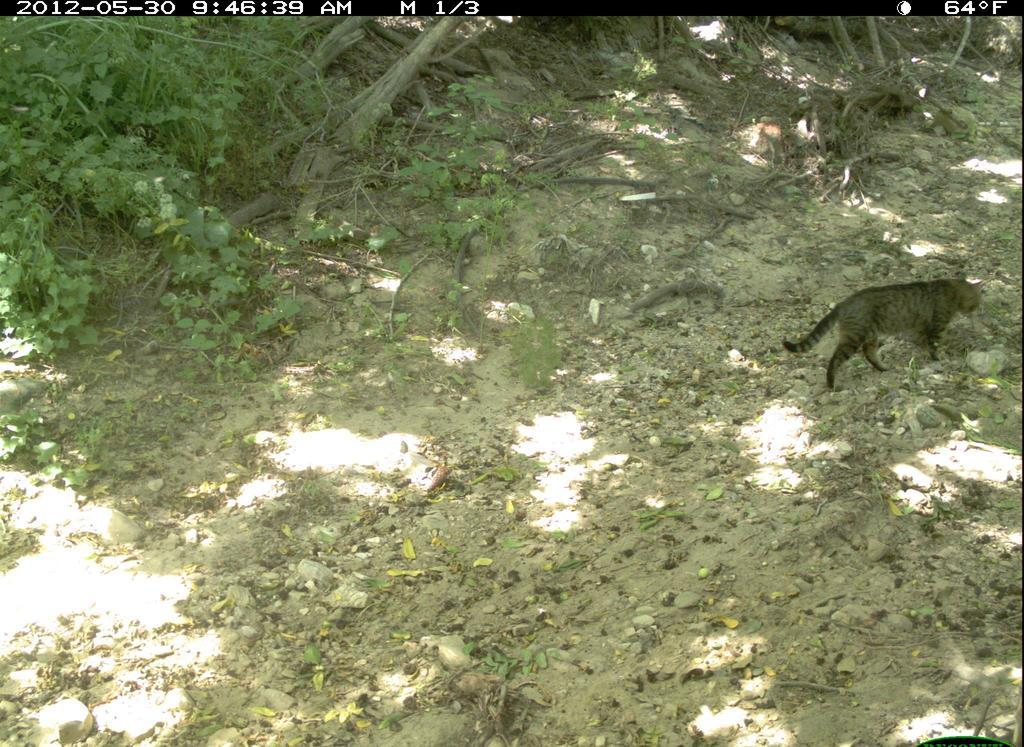cat: (765, 248, 1000, 421)
